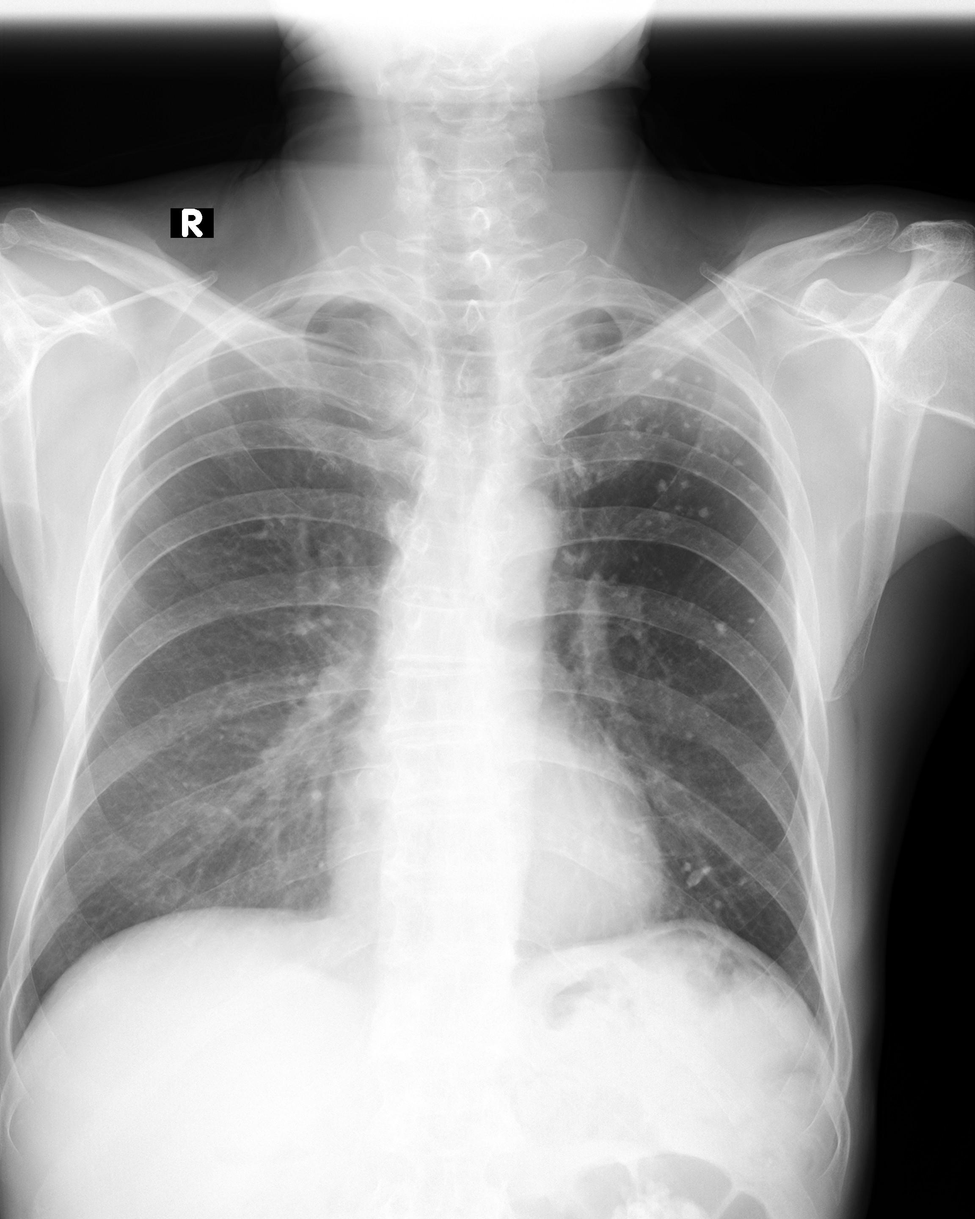Pulmonary fibrosis: (576, 334, 764, 514), (680, 851, 742, 907)
